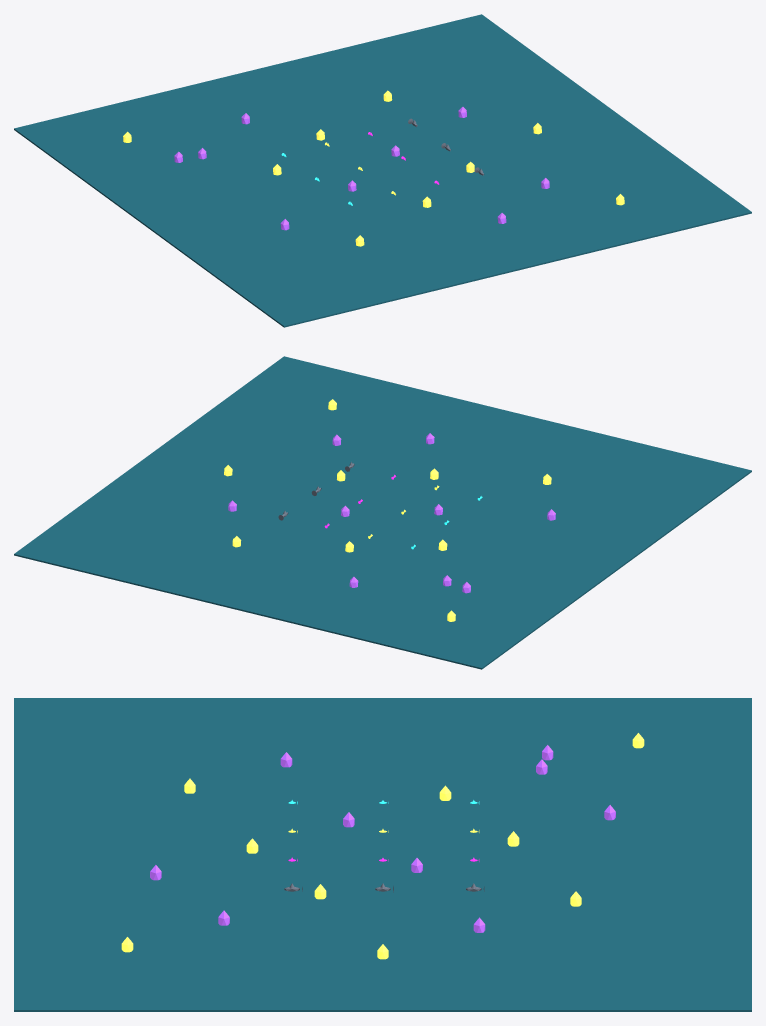
Rendered from ENV_Biome_ocean_scene_20261005.glb.
3 views of the same model, one above another, from view 1: azimuth 30°, elevation 25°; view 2: azimuth 150°, elevation 25°; view 3: azimuth 270°, elevation 25° (orthographic). The views are drawn at different scales.
Parts seen in each view (by area): view 1: BIOME_Floor.002; view 2: BIOME_Floor.002; view 3: BIOME_Floor.002.
Boxes of the visible parts, box(x1,y1,x2,y2) form: BIOME_Floor.002: box(14, 14, 751, 327); BIOME_Floor.002: box(14, 356, 751, 669); BIOME_Floor.002: box(14, 698, 751, 1011).
Bounding box in the file's own units: 130 × 4.55 × 130.
